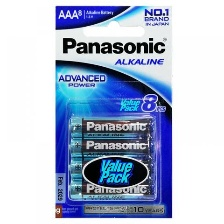battery: (67, 153, 158, 179), (65, 114, 157, 138), (67, 133, 158, 157), (66, 178, 158, 201)
book: (51, 3, 176, 220)
